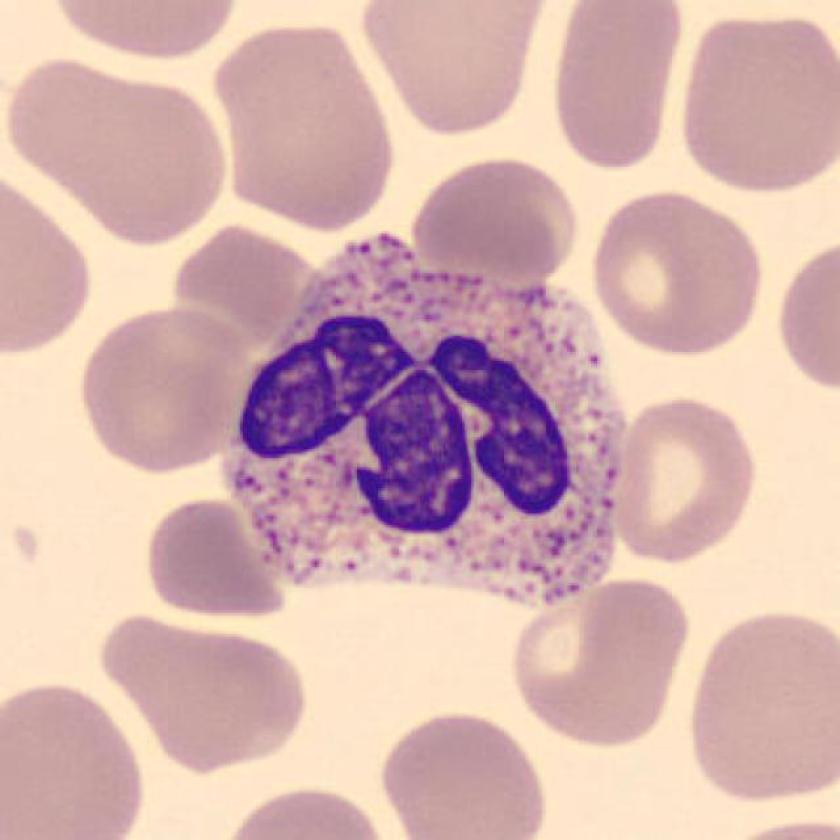neutrophil: (216, 232, 631, 610)
